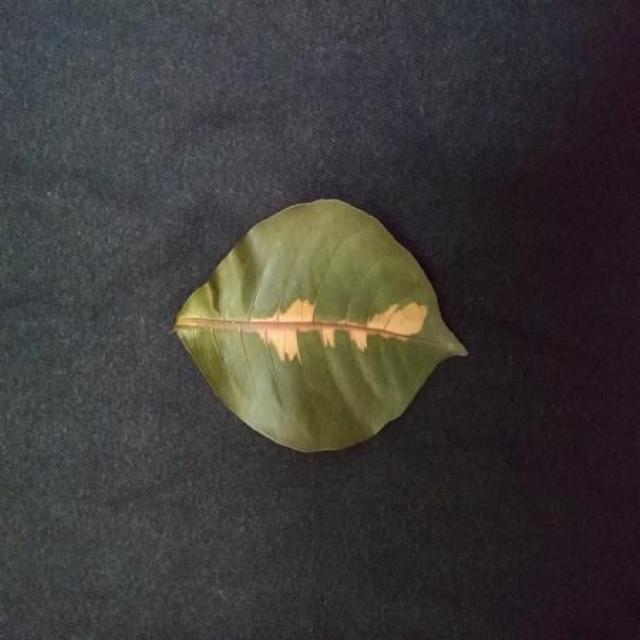caricature: (175, 200, 467, 451)
